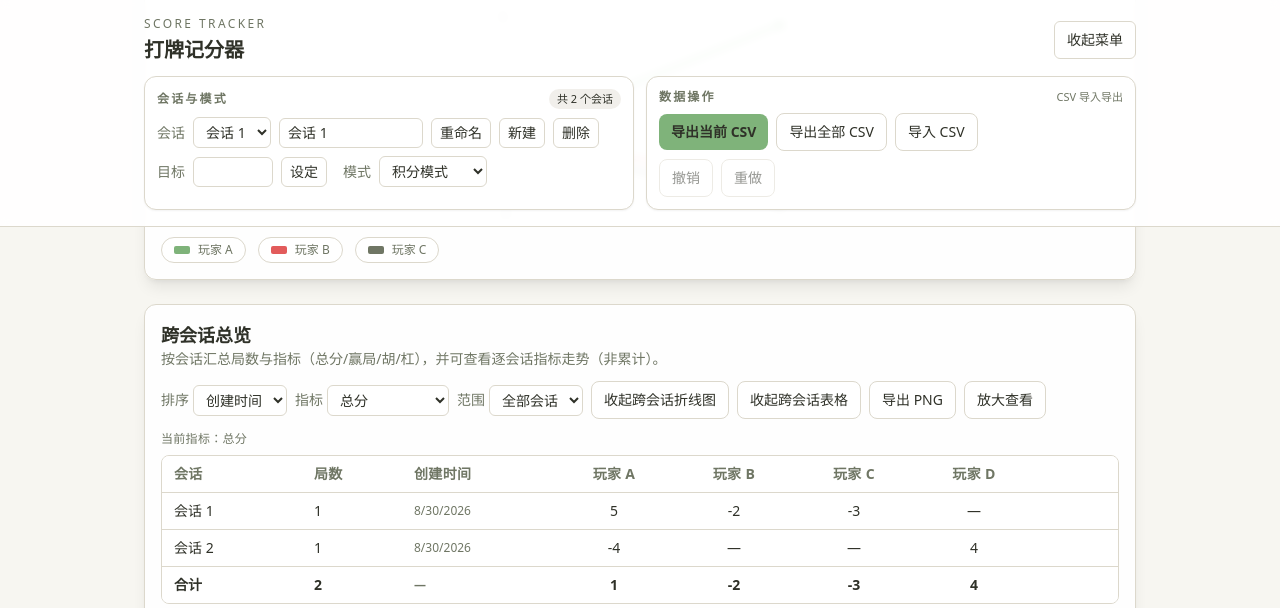
Scenario: App › cross-session overview only lists players present in selected sessions
(page scrolled)
Expected: the text "玩家 D" is shown, left=952, top=464, right=996, bottom=483
Select "自定义" in the dropdown showing "全部会话" at point(536, 400), box left=489, top=384, right=583, bottom=416
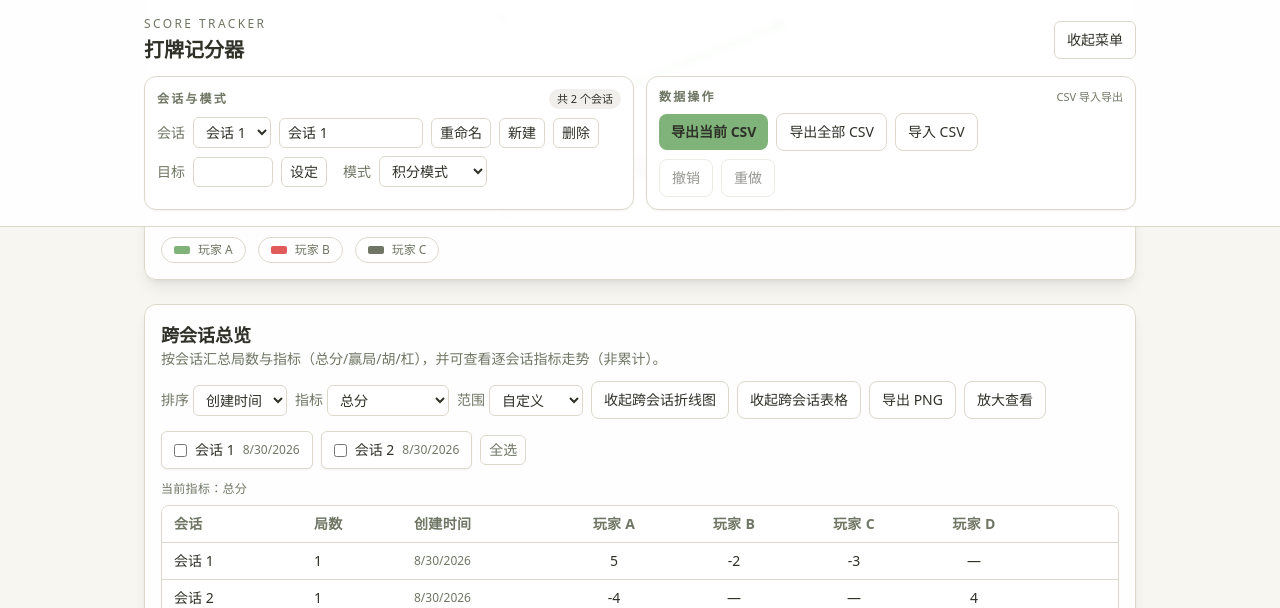
Click the checkbox labelled "会话 1 8/30/2026" at point(180, 450), box left=174, top=444, right=187, bottom=456
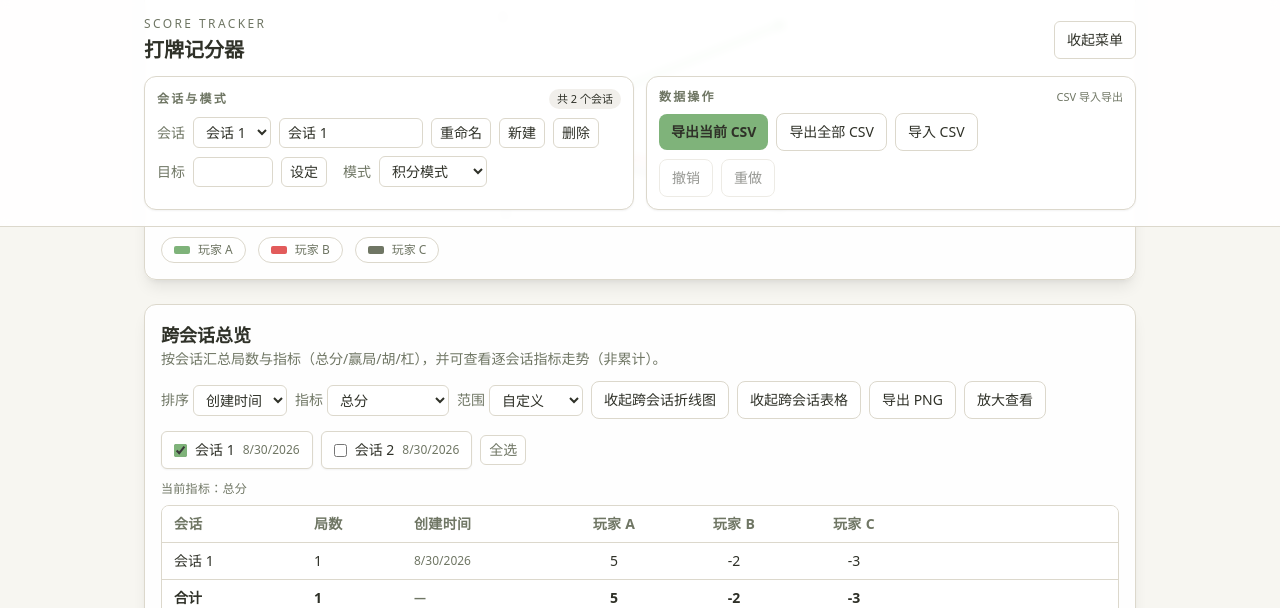
Expected: the text "玩家 B" in the row of "创建时间" is shown, left=713, top=514, right=755, bottom=533
Now the text "玩家 D" is gone
